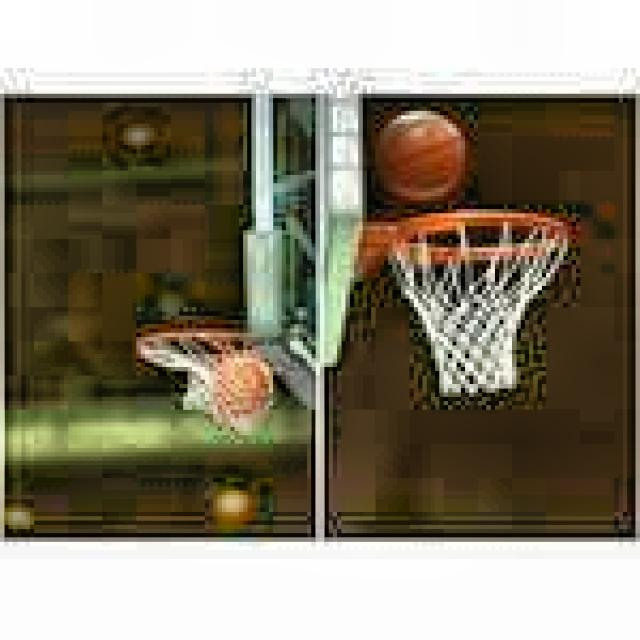board: (373, 111, 468, 200)
rim: (384, 209, 572, 397)
